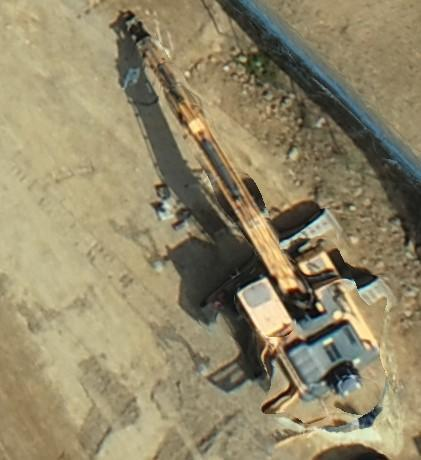excavator: (134, 39, 380, 417)
